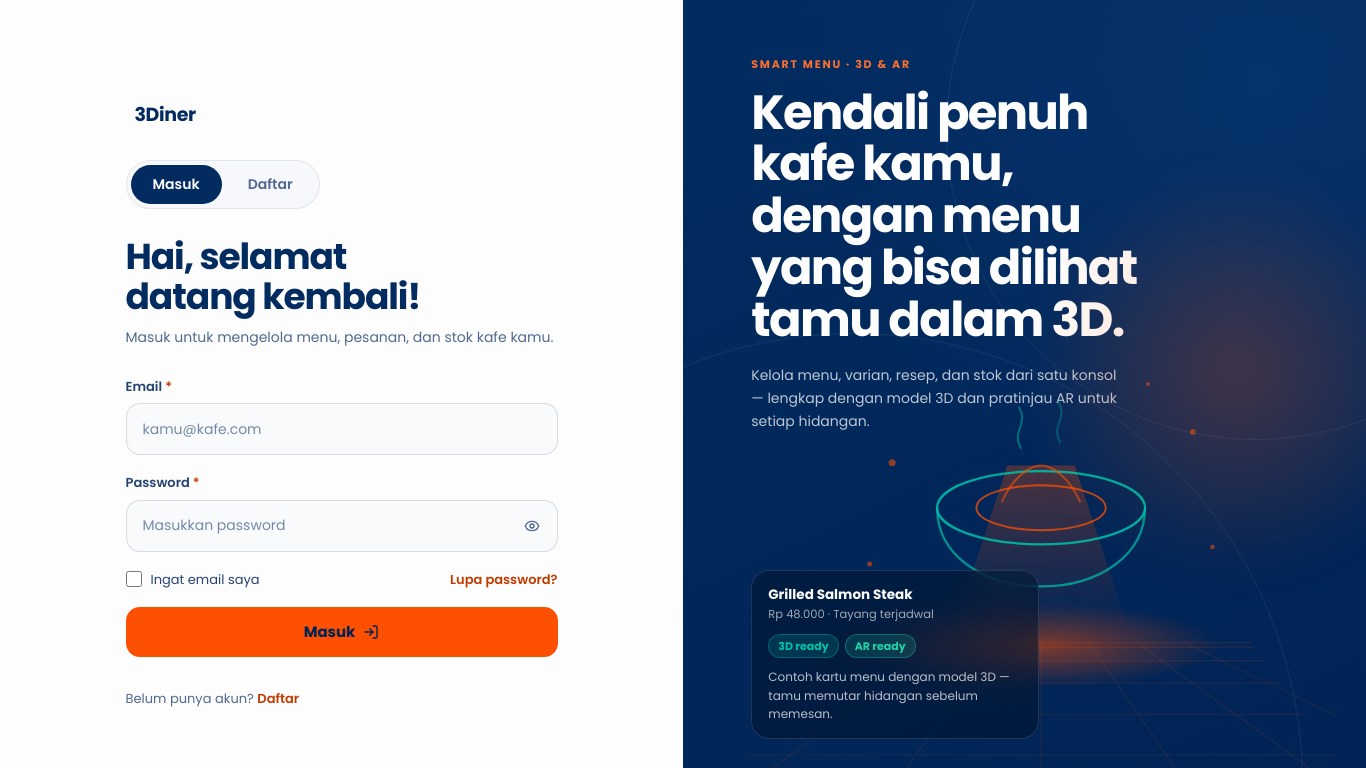
login authentication flow › does not show the signup duplicate-email message during sign-in
In the field labelled "Email *": (342, 429) [126,404,556,454], type "owner@example.com"
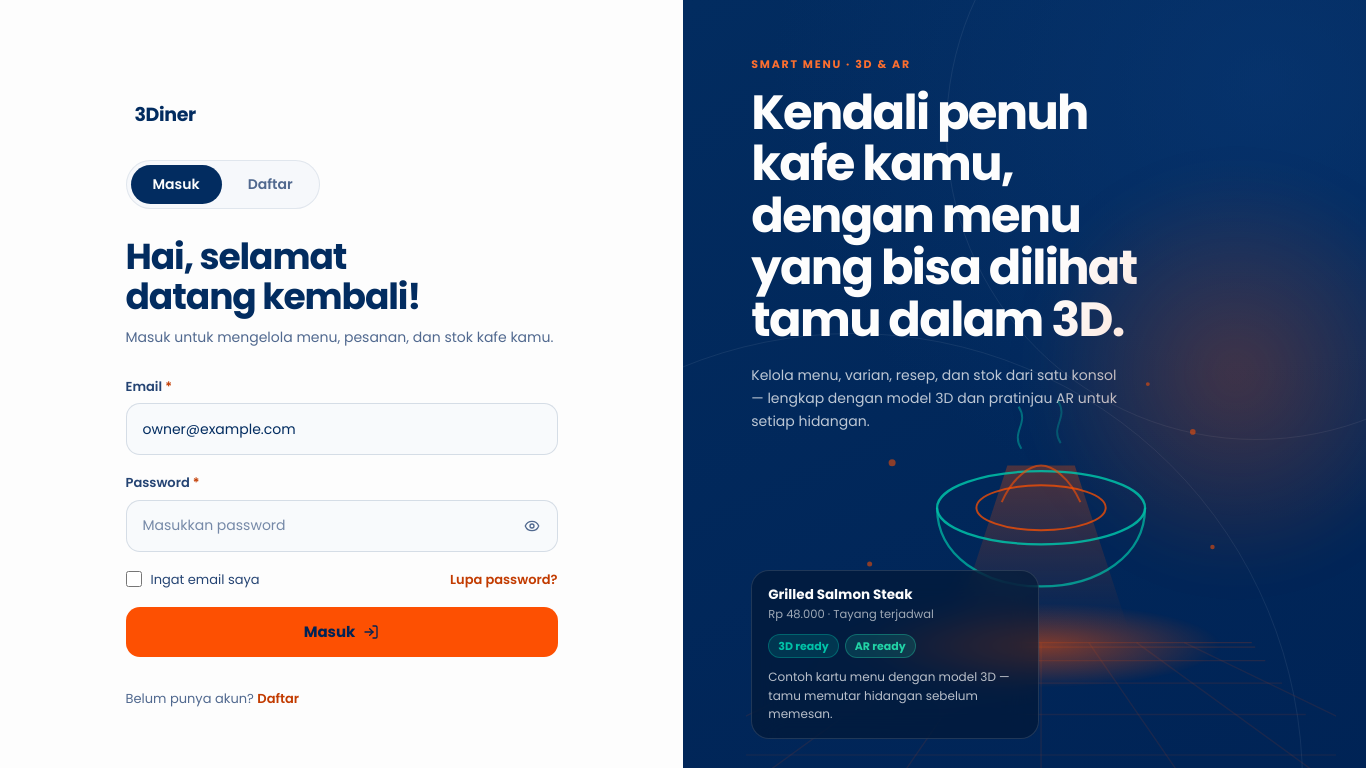
In the password field labelled "Password *": (342, 526) [126,501,556,551], type "local-test-password"
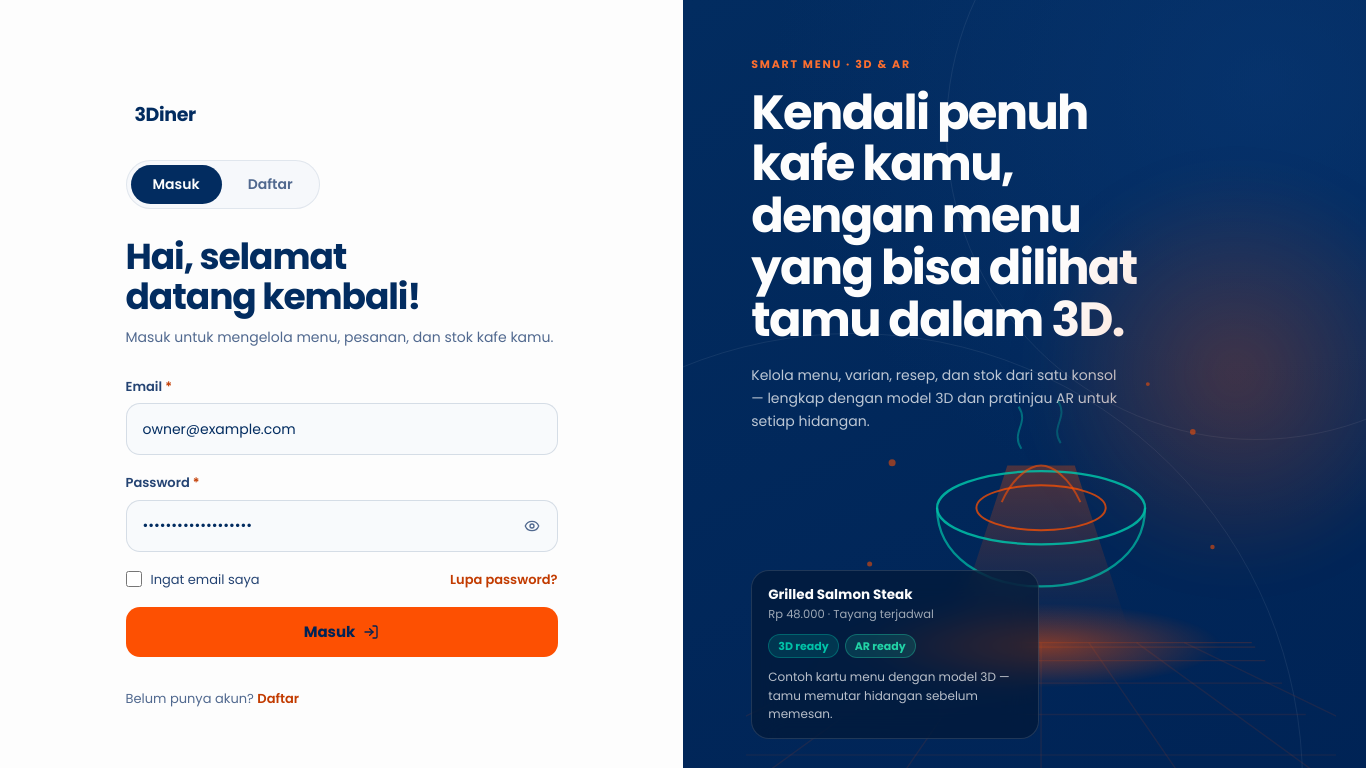
Click the button "Masuk": (342, 632) [126,607,558,657]
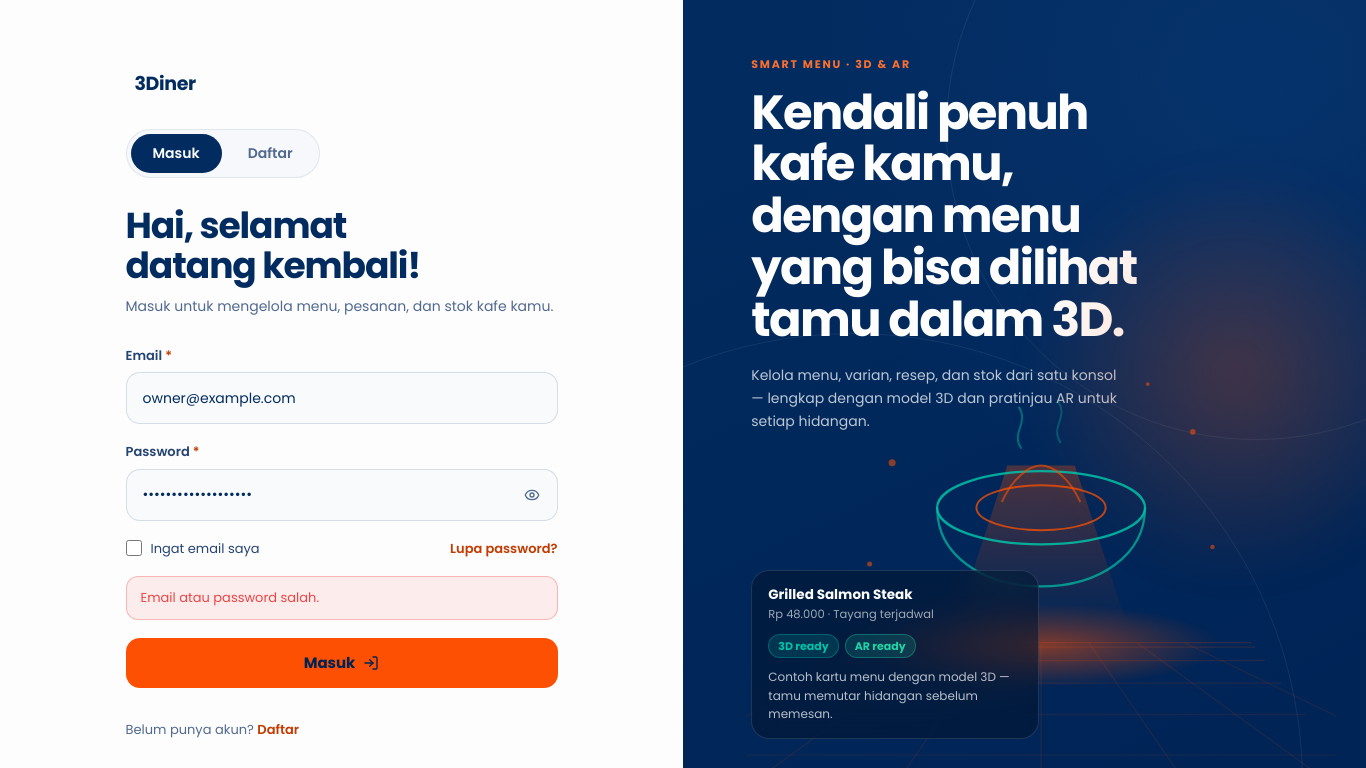
Expected: the message reads "Email atau password salah.", [140,588,319,607]
